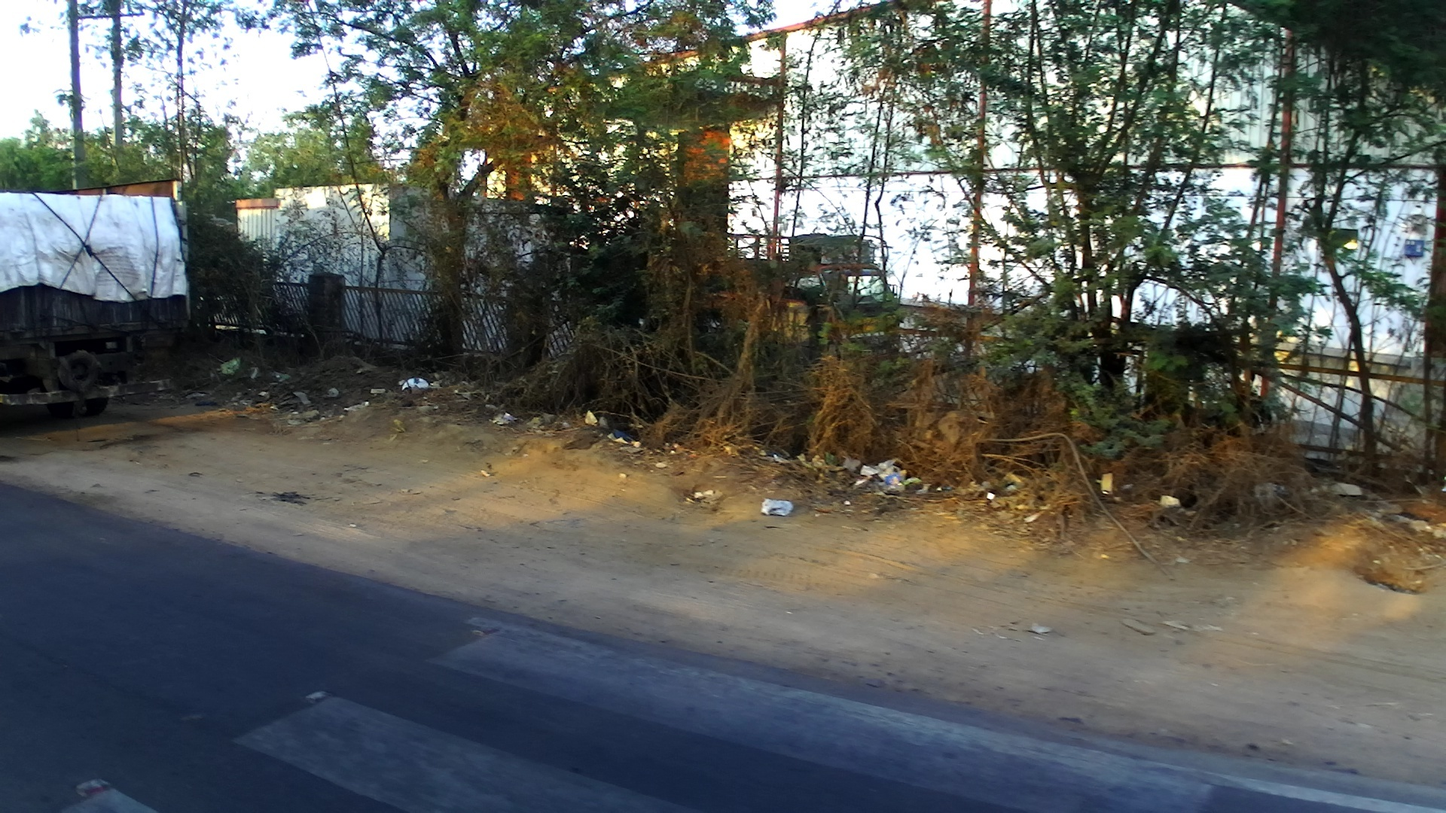truck: (1, 176, 201, 433)
